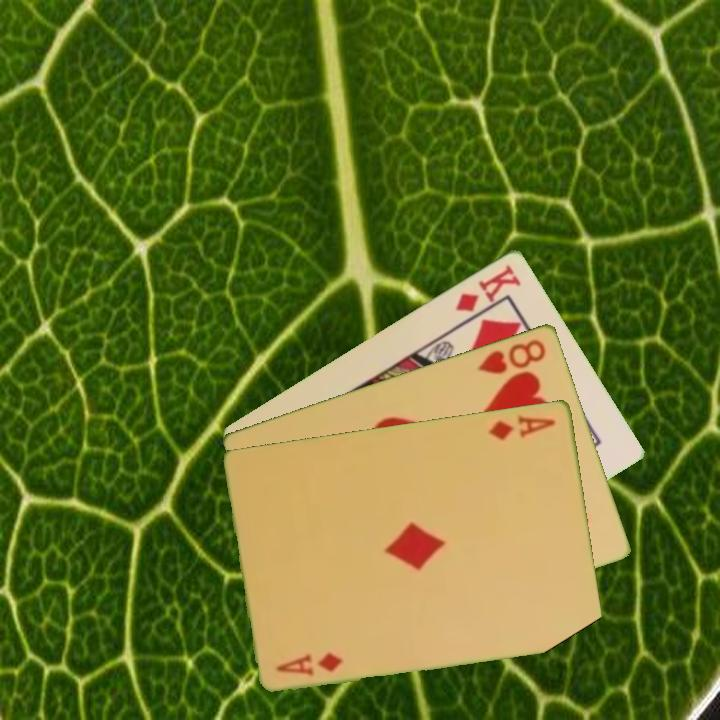8h: (474, 335, 549, 377)
Ad: (486, 410, 559, 443), (273, 648, 346, 678)
Kd: (452, 259, 524, 315)
